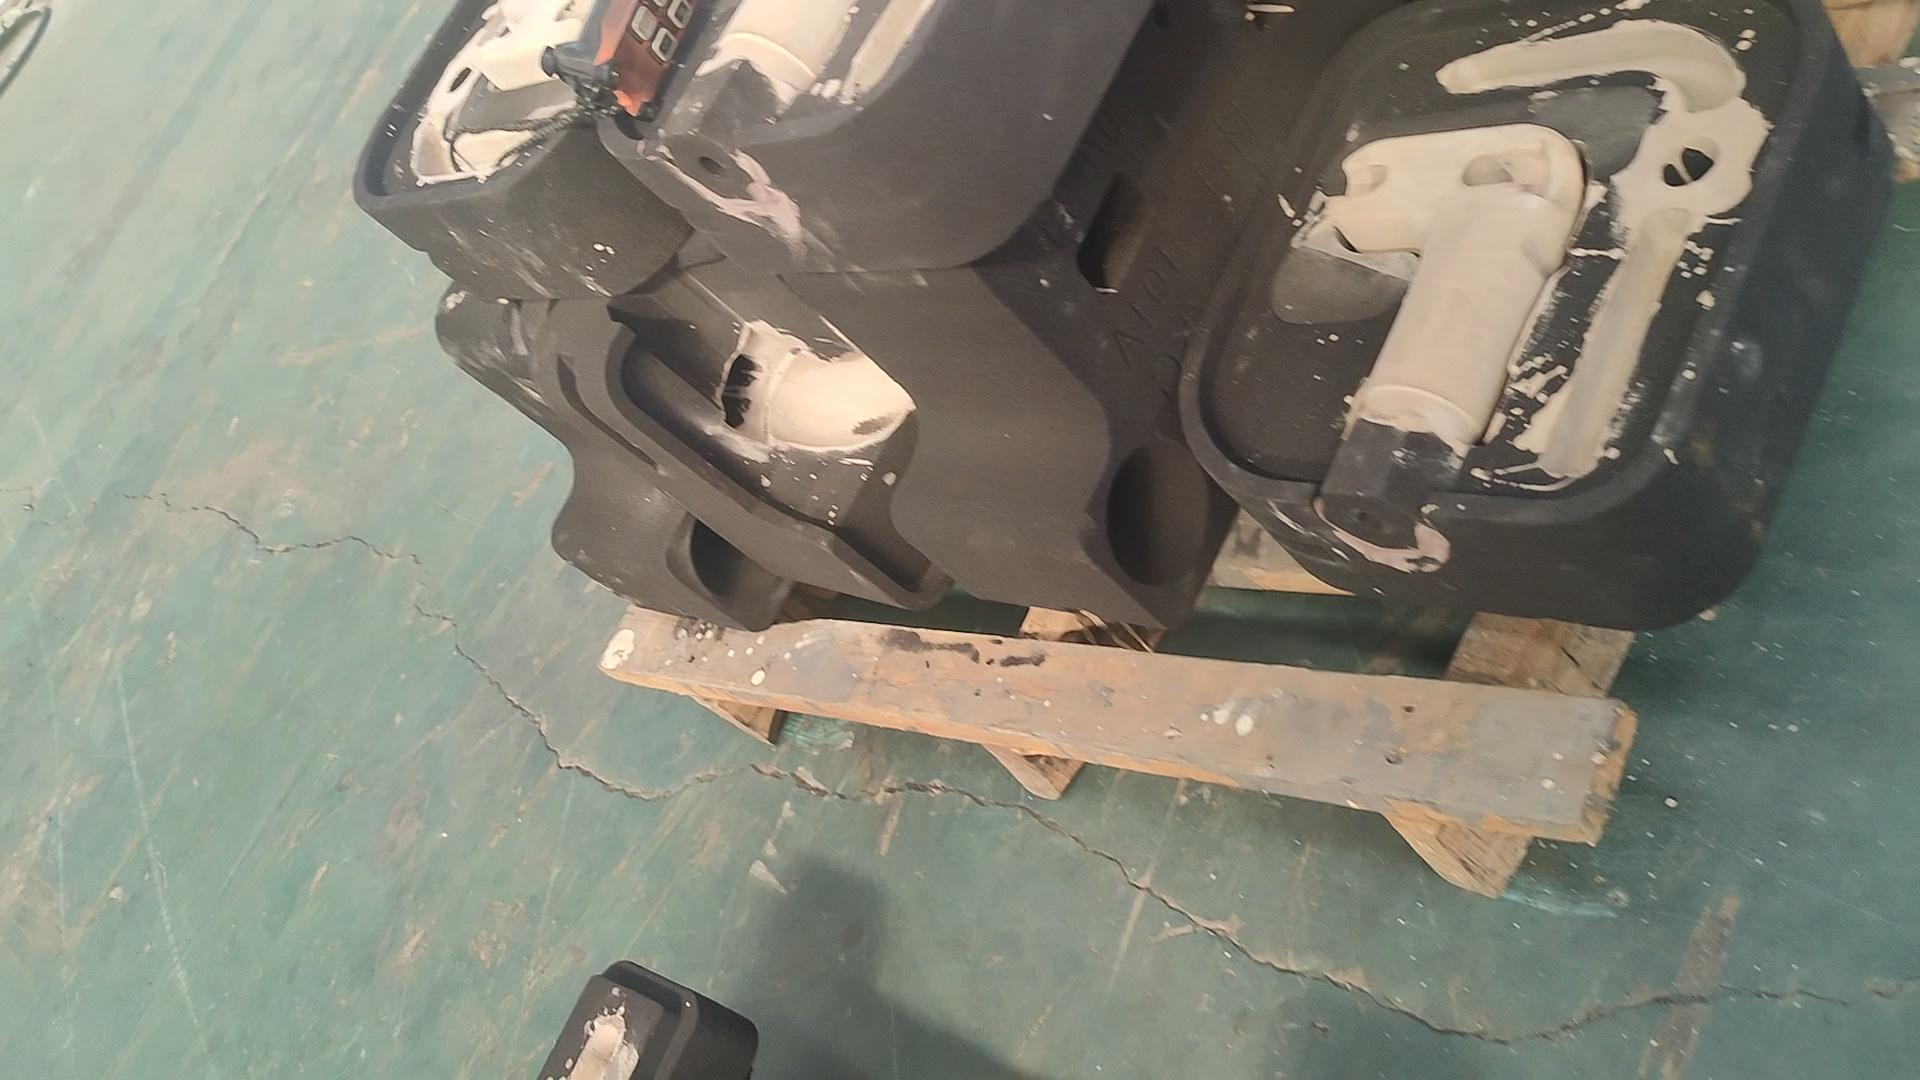pouring hole: (1106, 440, 1207, 585), (691, 498, 783, 597)
